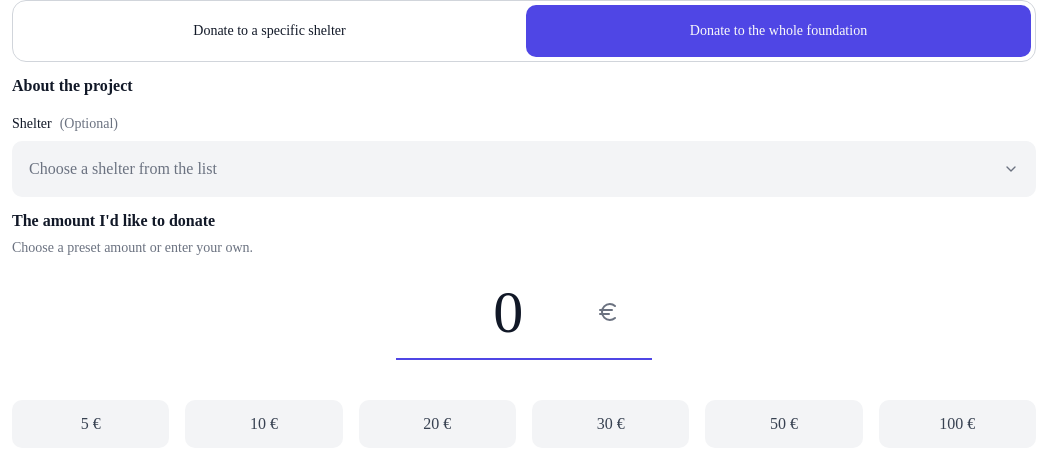
Test: ShelterStep › drops the optional marker once 'Donate to a specific shelter' is selected
Click the radio button named "donate to a specific shelter" next to "Donate to a specific shelter" at (277, 38), box [269,30,285,46]
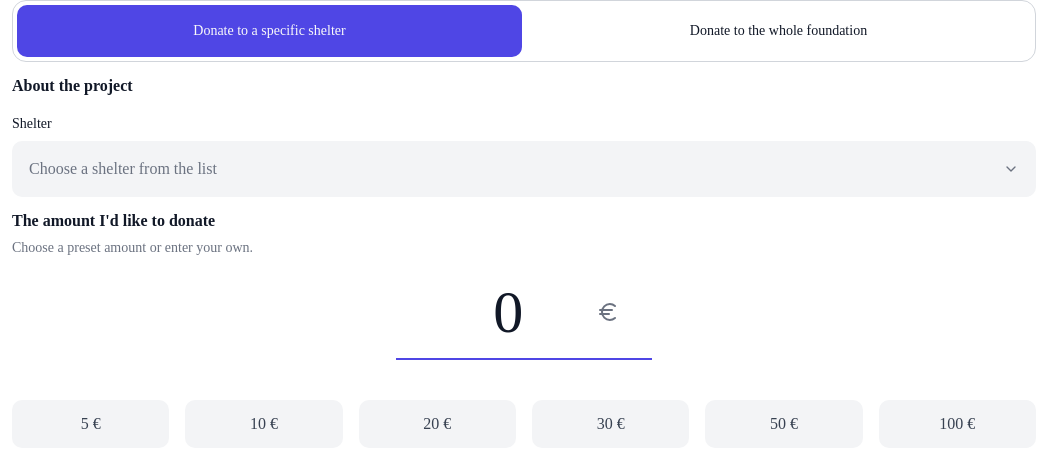
Check: the text "(Optional)" is gone
